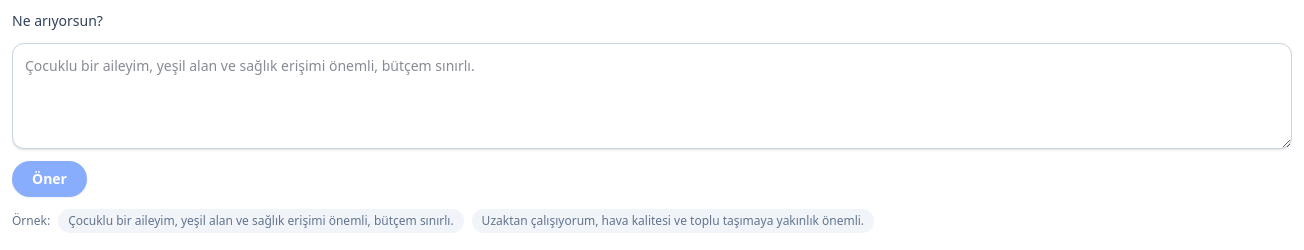
AssistantClient › keeps the submit button disabled until the user types something
The width and height of the screenshot is (1304, 250).
expect the button "Öner" is disabled: met, box x1=12 y1=161 x2=87 y2=197
Step 1. Replace the text in the text box labelled "Ne arıyorsun?" with "Hava kalitesi önemli" → (652, 96), box x1=12 y1=43 x2=1292 y2=149
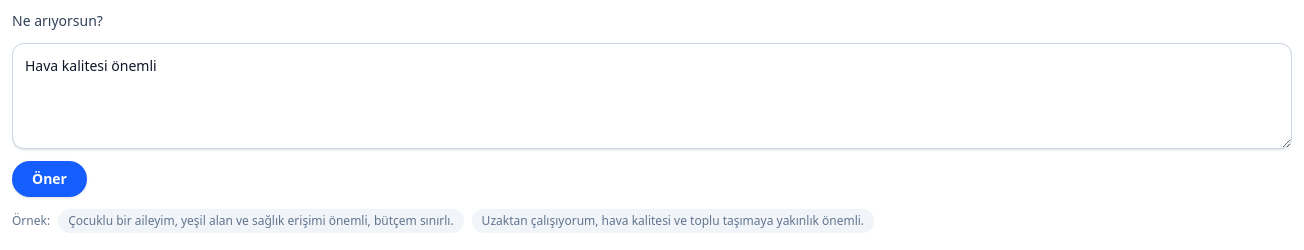
expect the button "Öner" is enabled: met, box x1=12 y1=161 x2=87 y2=197
